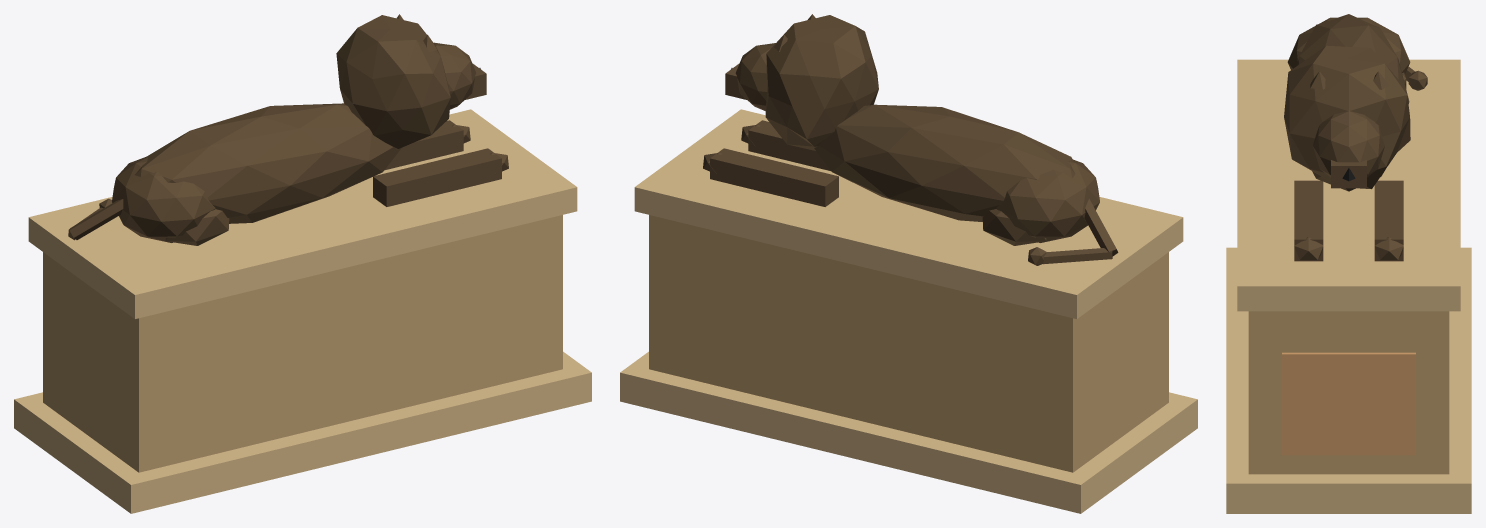
Rendered from lejonstaty.glb.
3 renders of one model, left to right at view 1: azimuth 30°, elevation 25°; view 2: azimuth 150°, elevation 25°; view 3: azimuth 270°, elevation 25°, orthographic. The views are drawn at different scales.
Parts seen in each view (by area): view 1: lejonstaty; view 2: lejonstaty; view 3: lejonstaty.
Boxes of the visible parts, box(x1,y1,x2,y2) form: lejonstaty: box(14, 14, 591, 513); lejonstaty: box(620, 14, 1197, 513); lejonstaty: box(1226, 14, 1471, 513).
Size of the model in its own units: 5 by 3.79 by 2.2.
